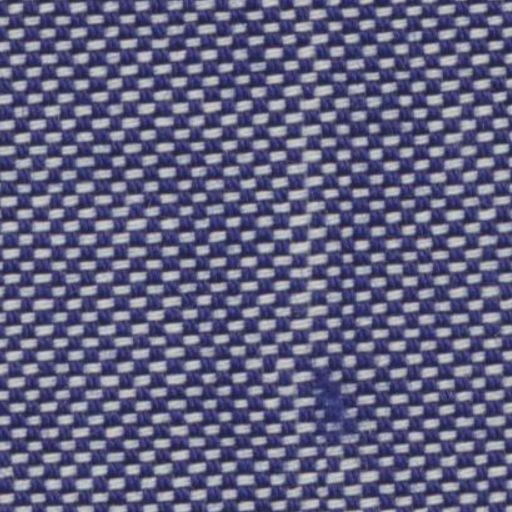TuoSha: (256, 10, 368, 498)
